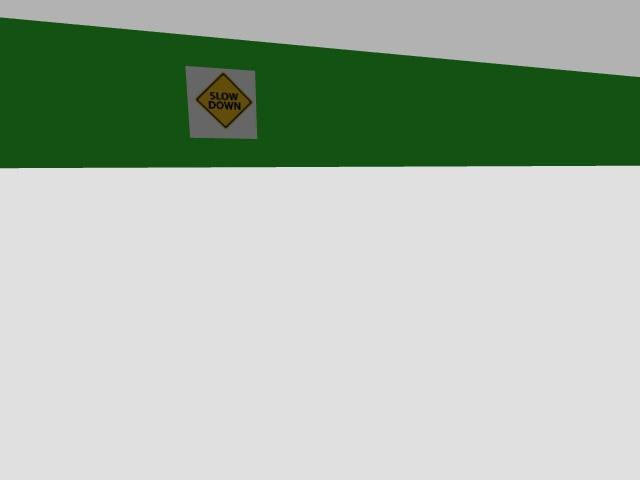slowsign: (187, 66, 256, 138)
